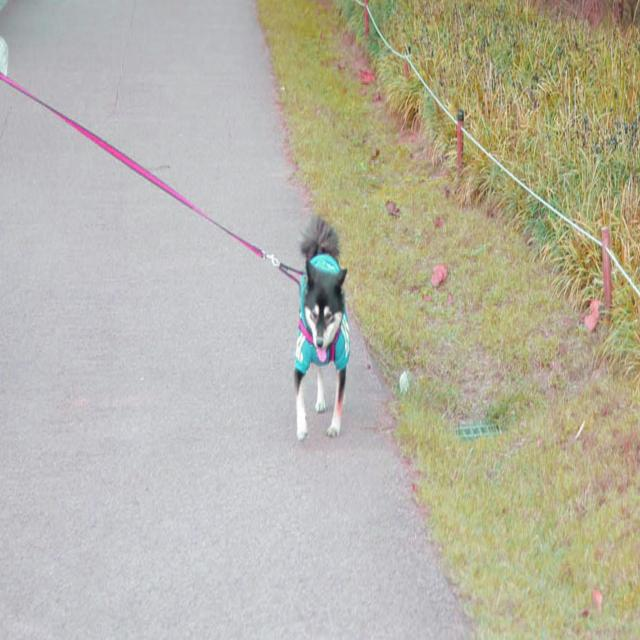Dog: (294, 213, 350, 441)
